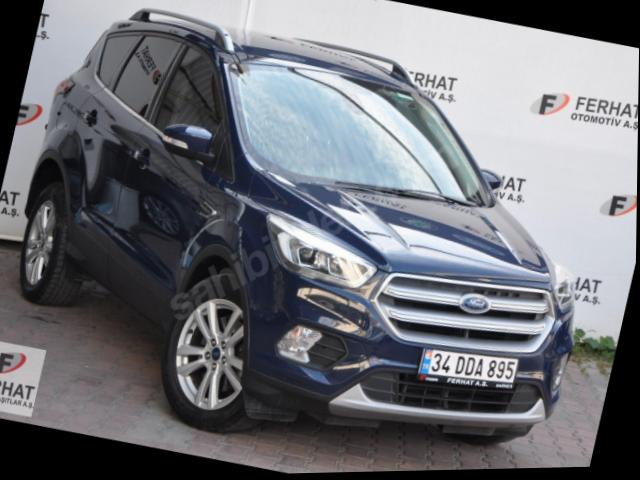plaka: (419, 349, 517, 382)
